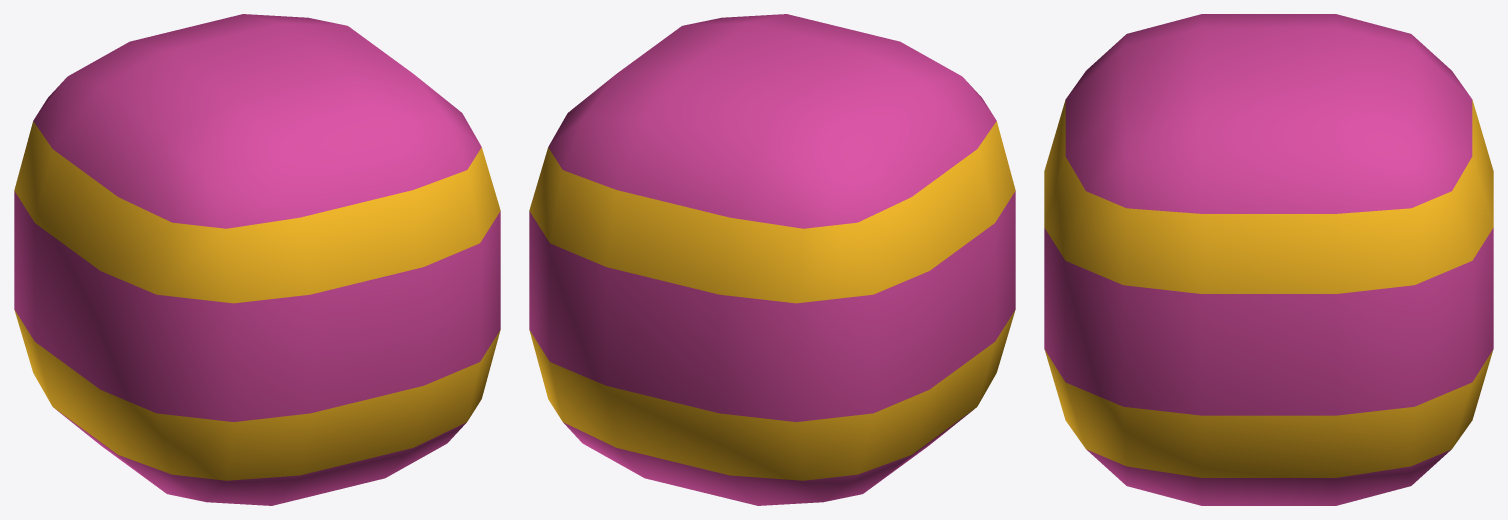
The model's file is course_marker.glb.
3 renders of one model, left to right at view 1: azimuth 30°, elevation 25°; view 2: azimuth 150°, elevation 25°; view 3: azimuth 270°, elevation 25°, orthographic. The views are drawn at different scales.
Parts seen in each view (by area): view 1: course_marker.003; view 2: course_marker.003; view 3: course_marker.003.
Boxes of the visible parts, x1,y1,x2,y2 form: course_marker.003: [14, 14, 500, 505]; course_marker.003: [529, 14, 1015, 505]; course_marker.003: [1044, 14, 1493, 505].
Bounding box in the file's own units: 0.5474 × 0.5474 × 0.5474.
1 material, 1 textured.
